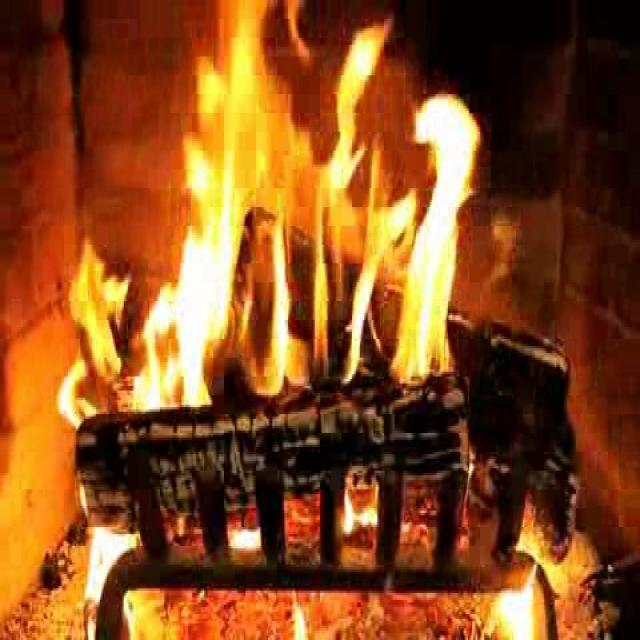fire: (150, 29, 471, 422)
